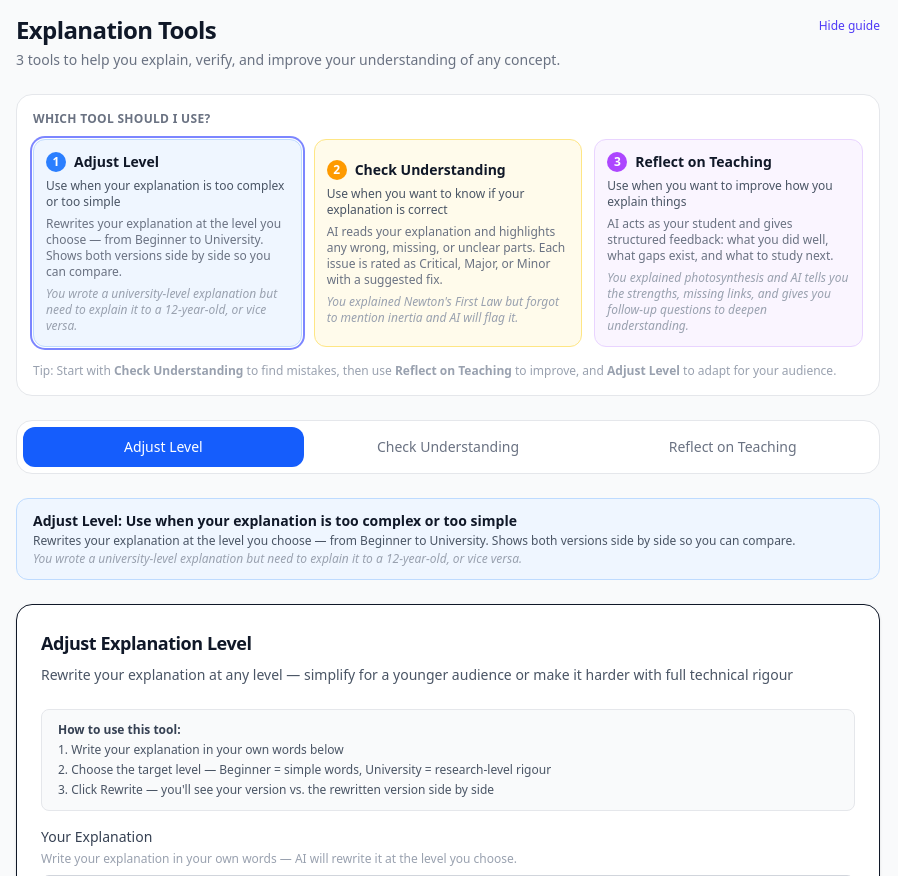
SimplifyPage — Explanation Tools › hides guide when toggle button clicked
This screenshot has width=898, height=876.
Click the button "Hide guide" at (849, 26), box [819,18,880,34]
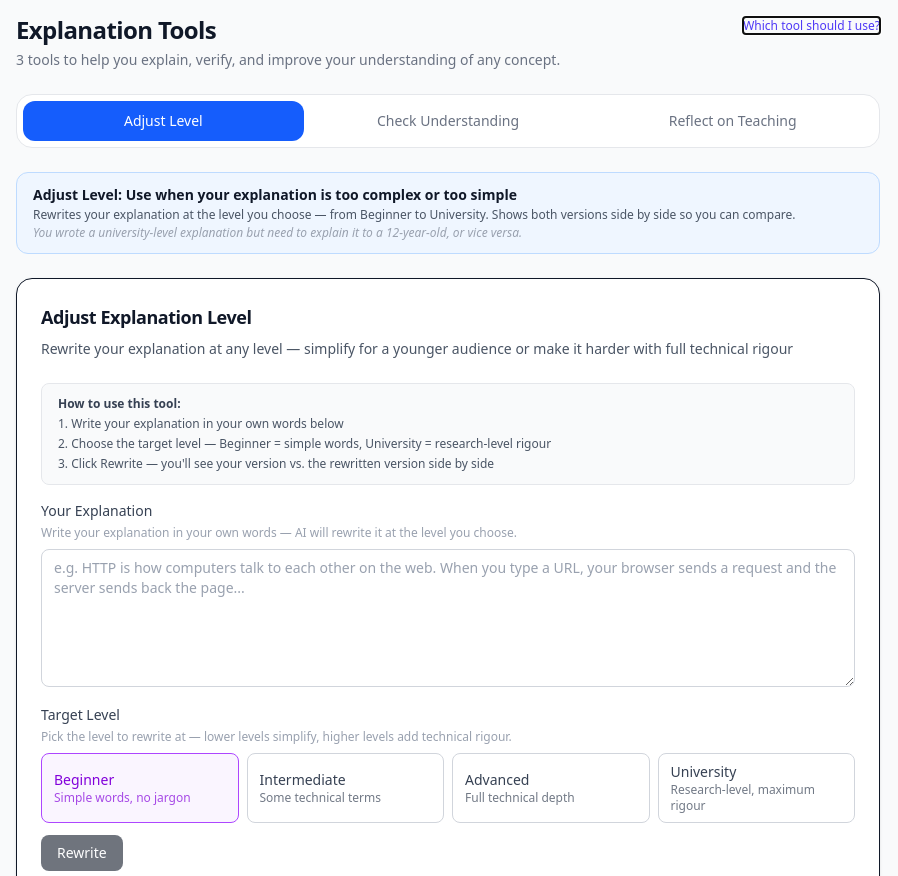
Expected: the button "Which tool should I use?" is shown, [743,18,880,34]
Expected: the text "Tip: Start with" is gone
